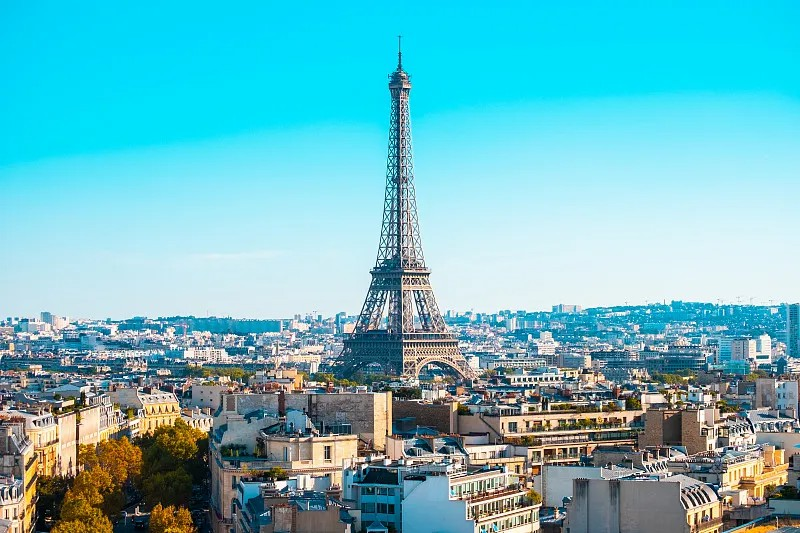Eiffel: (329, 36, 477, 384)
